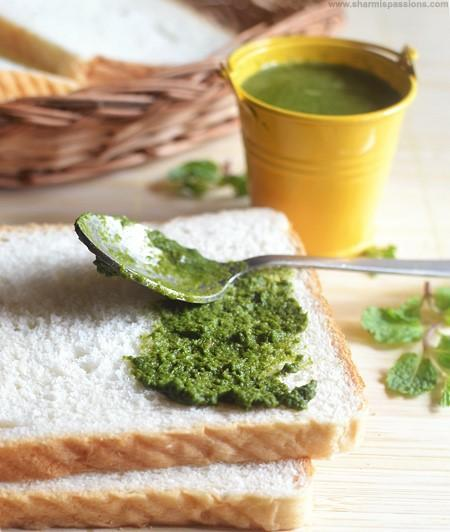GreenChutney: (134, 276, 313, 409), (242, 60, 396, 113)
